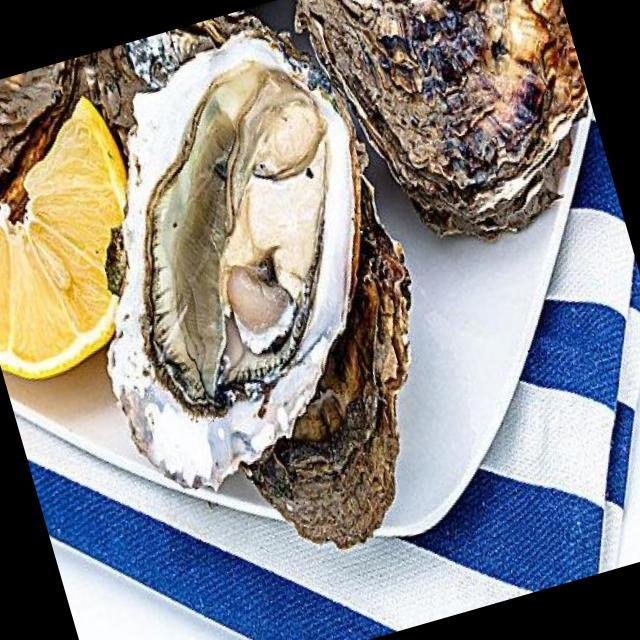Oyster- Indeterminate: (170, 166, 471, 574), (282, 0, 618, 273)
Oyster-Open: (18, 0, 439, 513)
